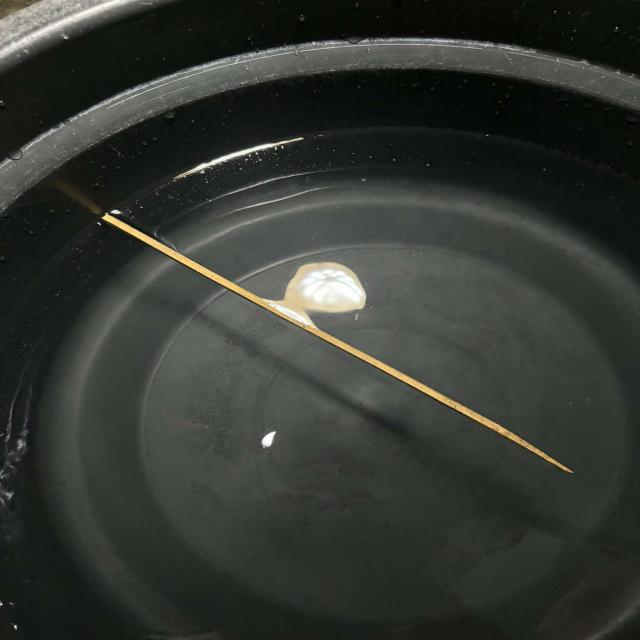Wood Stick: (75, 194, 612, 516)
